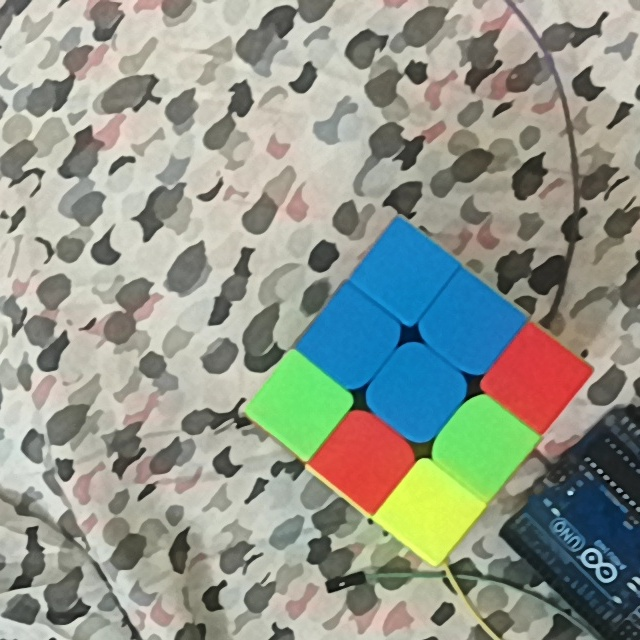tile: (441, 296, 498, 355), (509, 348, 563, 408), (273, 377, 327, 436), (454, 418, 511, 473), (337, 431, 390, 490), (386, 364, 443, 418), (402, 485, 454, 543), (377, 245, 431, 300), (326, 313, 377, 369)
